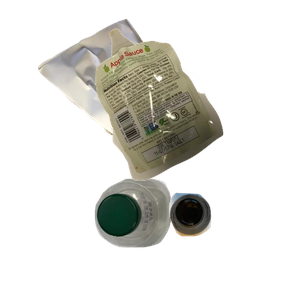glass: (166, 190, 300, 300)
paper: (35, 10, 237, 178)
plastic: (92, 176, 257, 300)
trash: (93, 26, 300, 200)
